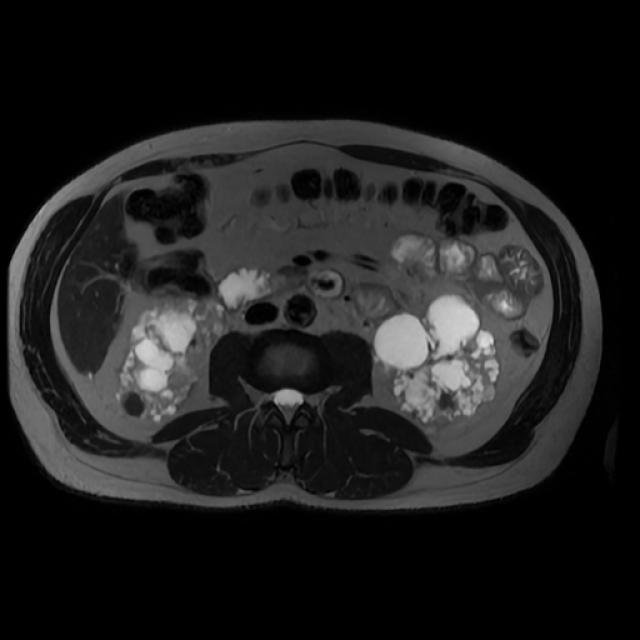sag: (112, 295, 230, 424)
sol: (372, 291, 502, 431)
